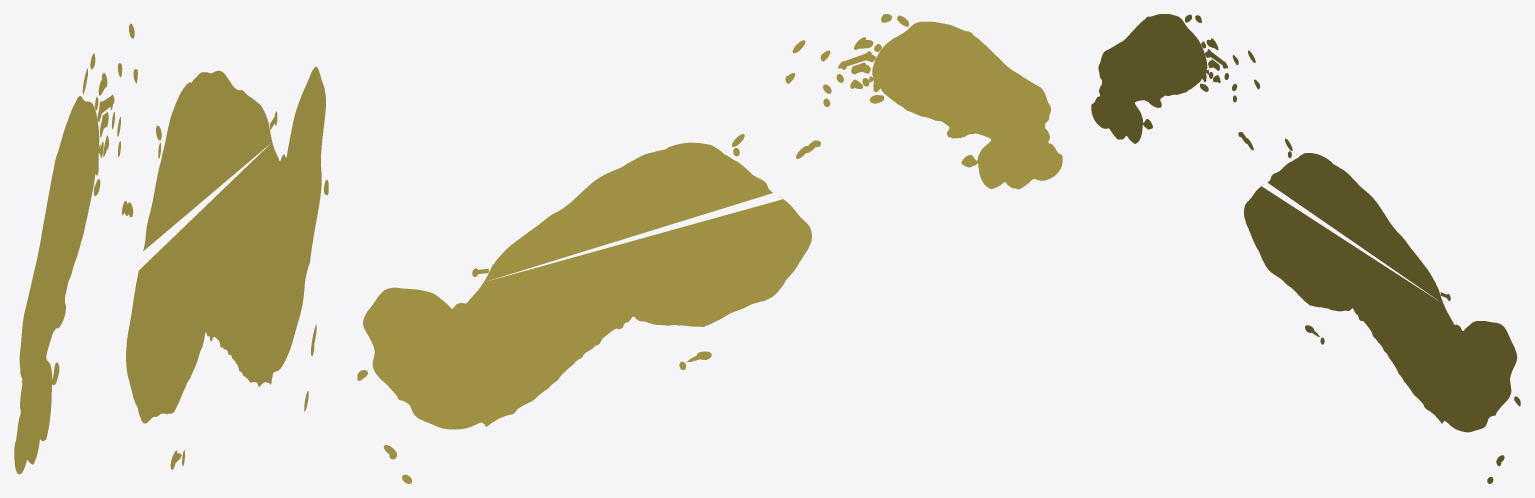
Rendered from bottomLeft.obj.
3 views of the same model, side by side, from view 1: azimuth 30°, elevation 25°; view 2: azimuth 150°, elevation 25°; view 3: azimuth 270°, elevation 25° (orthographic). The views are drawn at different scales.
Visible parts, largest first — view 1: grp1; view 2: grp1; view 3: grp1.
Boxes of the visible parts, <box> form: grp1: <box>14,23,328,474</box>; grp1: <box>357,14,1062,483</box>; grp1: <box>1091,14,1520,483</box>.
Bounding box in the file's own units: 136 × 121 × 136.
